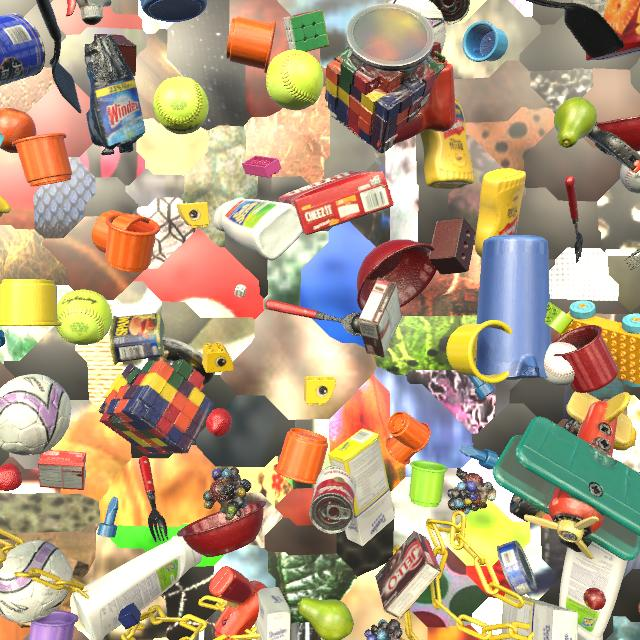ycb_002_master_chef_can: (0, 13, 45, 86)
ycb_003_cracker_box: (278, 171, 394, 235), (586, 0, 640, 60)
ycb_004_sugar_box: (328, 429, 395, 546), (501, 594, 578, 640), (256, 587, 291, 640)
ycb_005_tomato_soup_can: (309, 466, 356, 534), (429, 0, 470, 24), (571, 0, 607, 17)
ycb_006_mustard_bottle: (420, 98, 475, 189), (475, 168, 526, 260)
ycb_007_tuna_fish_can: (497, 541, 537, 596)
ycb_008_pudding_box: (375, 531, 441, 619), (358, 277, 402, 358)
ycb_009_gelatin_box: (38, 450, 87, 490)
ycb_010_potted_meat_can: (109, 313, 165, 365)
ycb_012_strawberry: (206, 408, 232, 437), (0, 464, 22, 491)
ycb_014_lemon: (613, 427, 636, 451)
ycb_016_pear: (297, 597, 354, 640), (554, 97, 597, 148)
ycb_017_orange: (0, 108, 36, 153)
